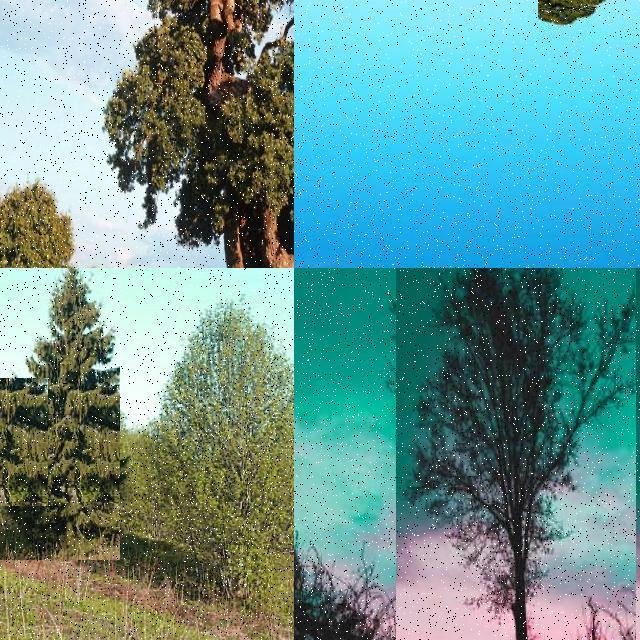tree: (396, 268, 636, 640), (68, 0, 294, 268), (142, 284, 294, 572), (0, 268, 120, 560), (0, 166, 84, 268), (0, 378, 48, 506), (0, 362, 48, 484), (538, 0, 640, 42)
